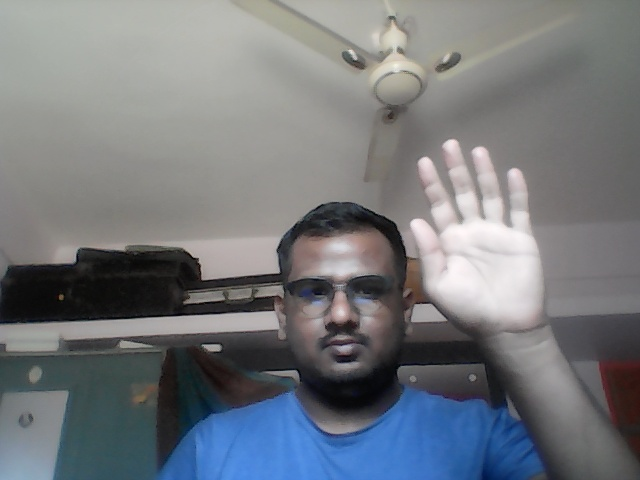Hello: (407, 135, 551, 335)
